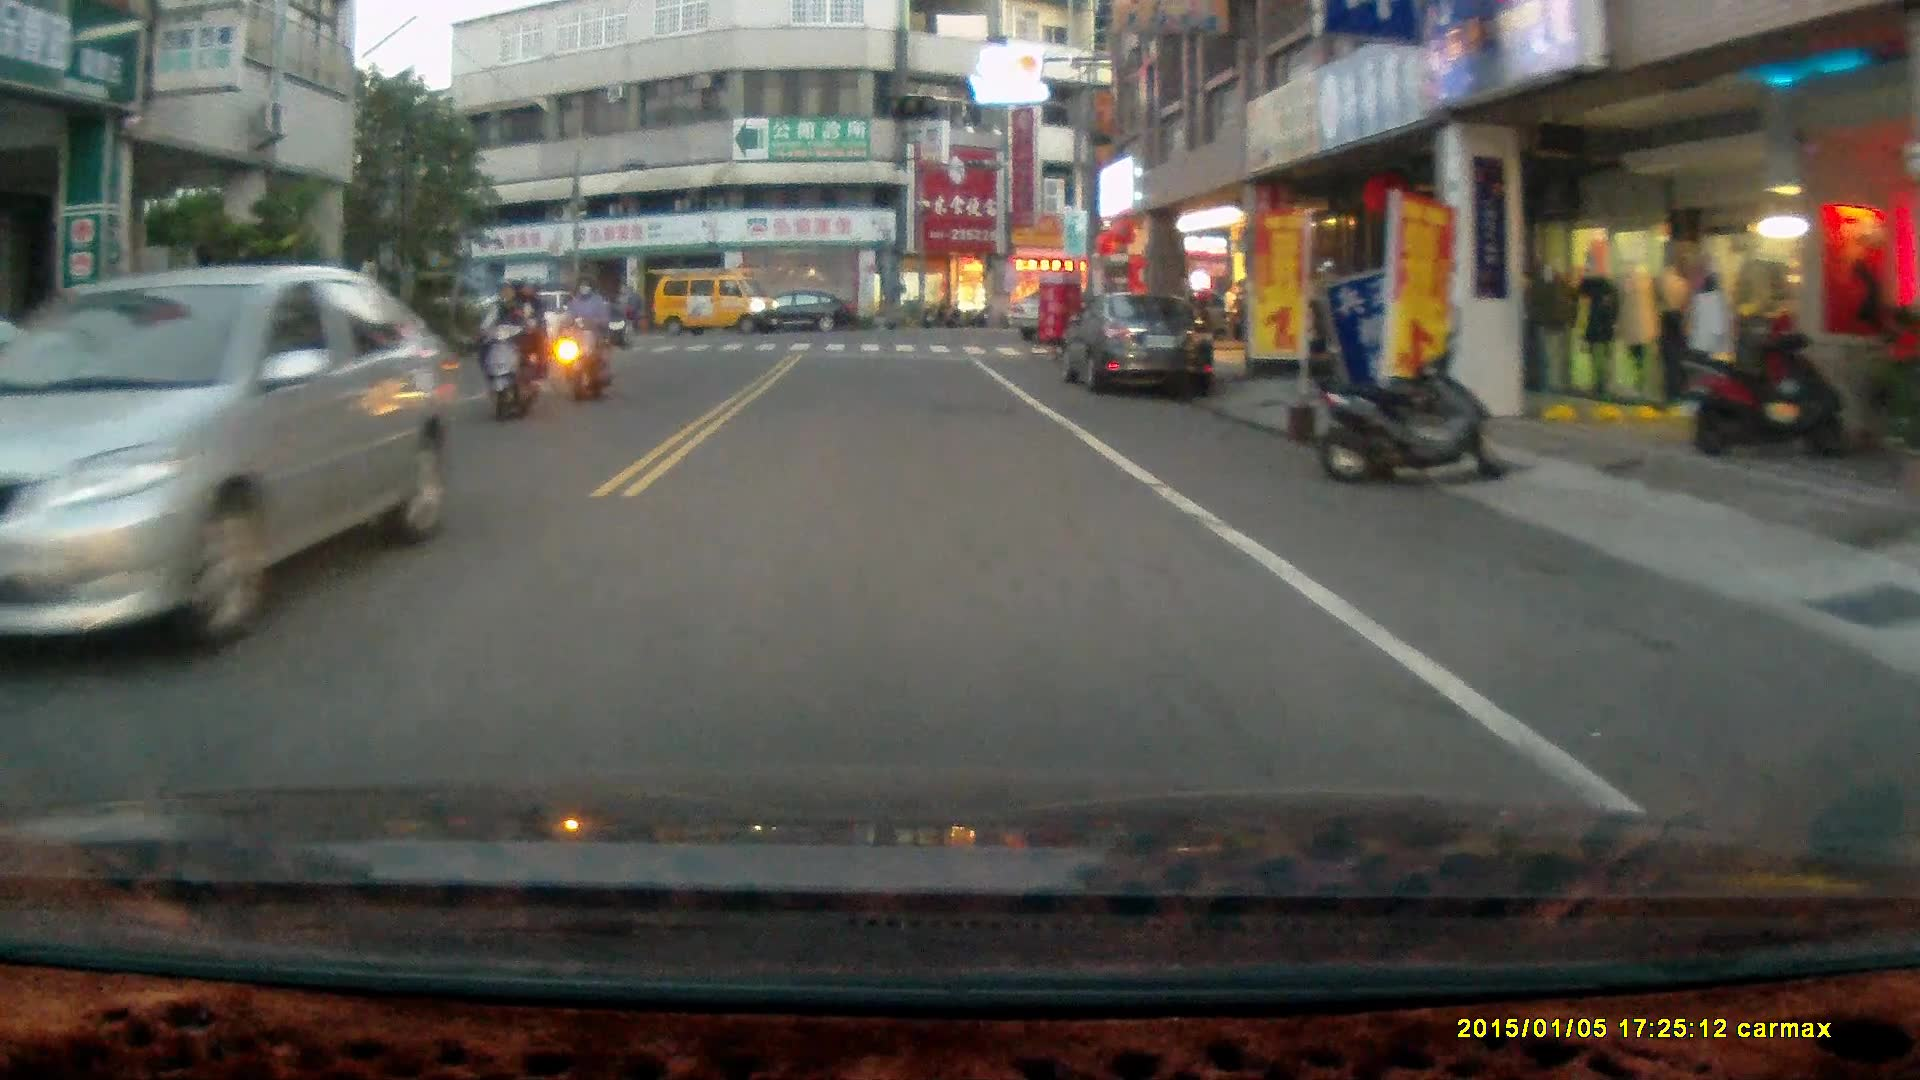rider: (476, 275, 550, 425), (560, 273, 613, 406)
vehicle: (71, 268, 435, 679), (1051, 285, 1222, 408), (647, 264, 786, 336), (741, 291, 858, 337)
